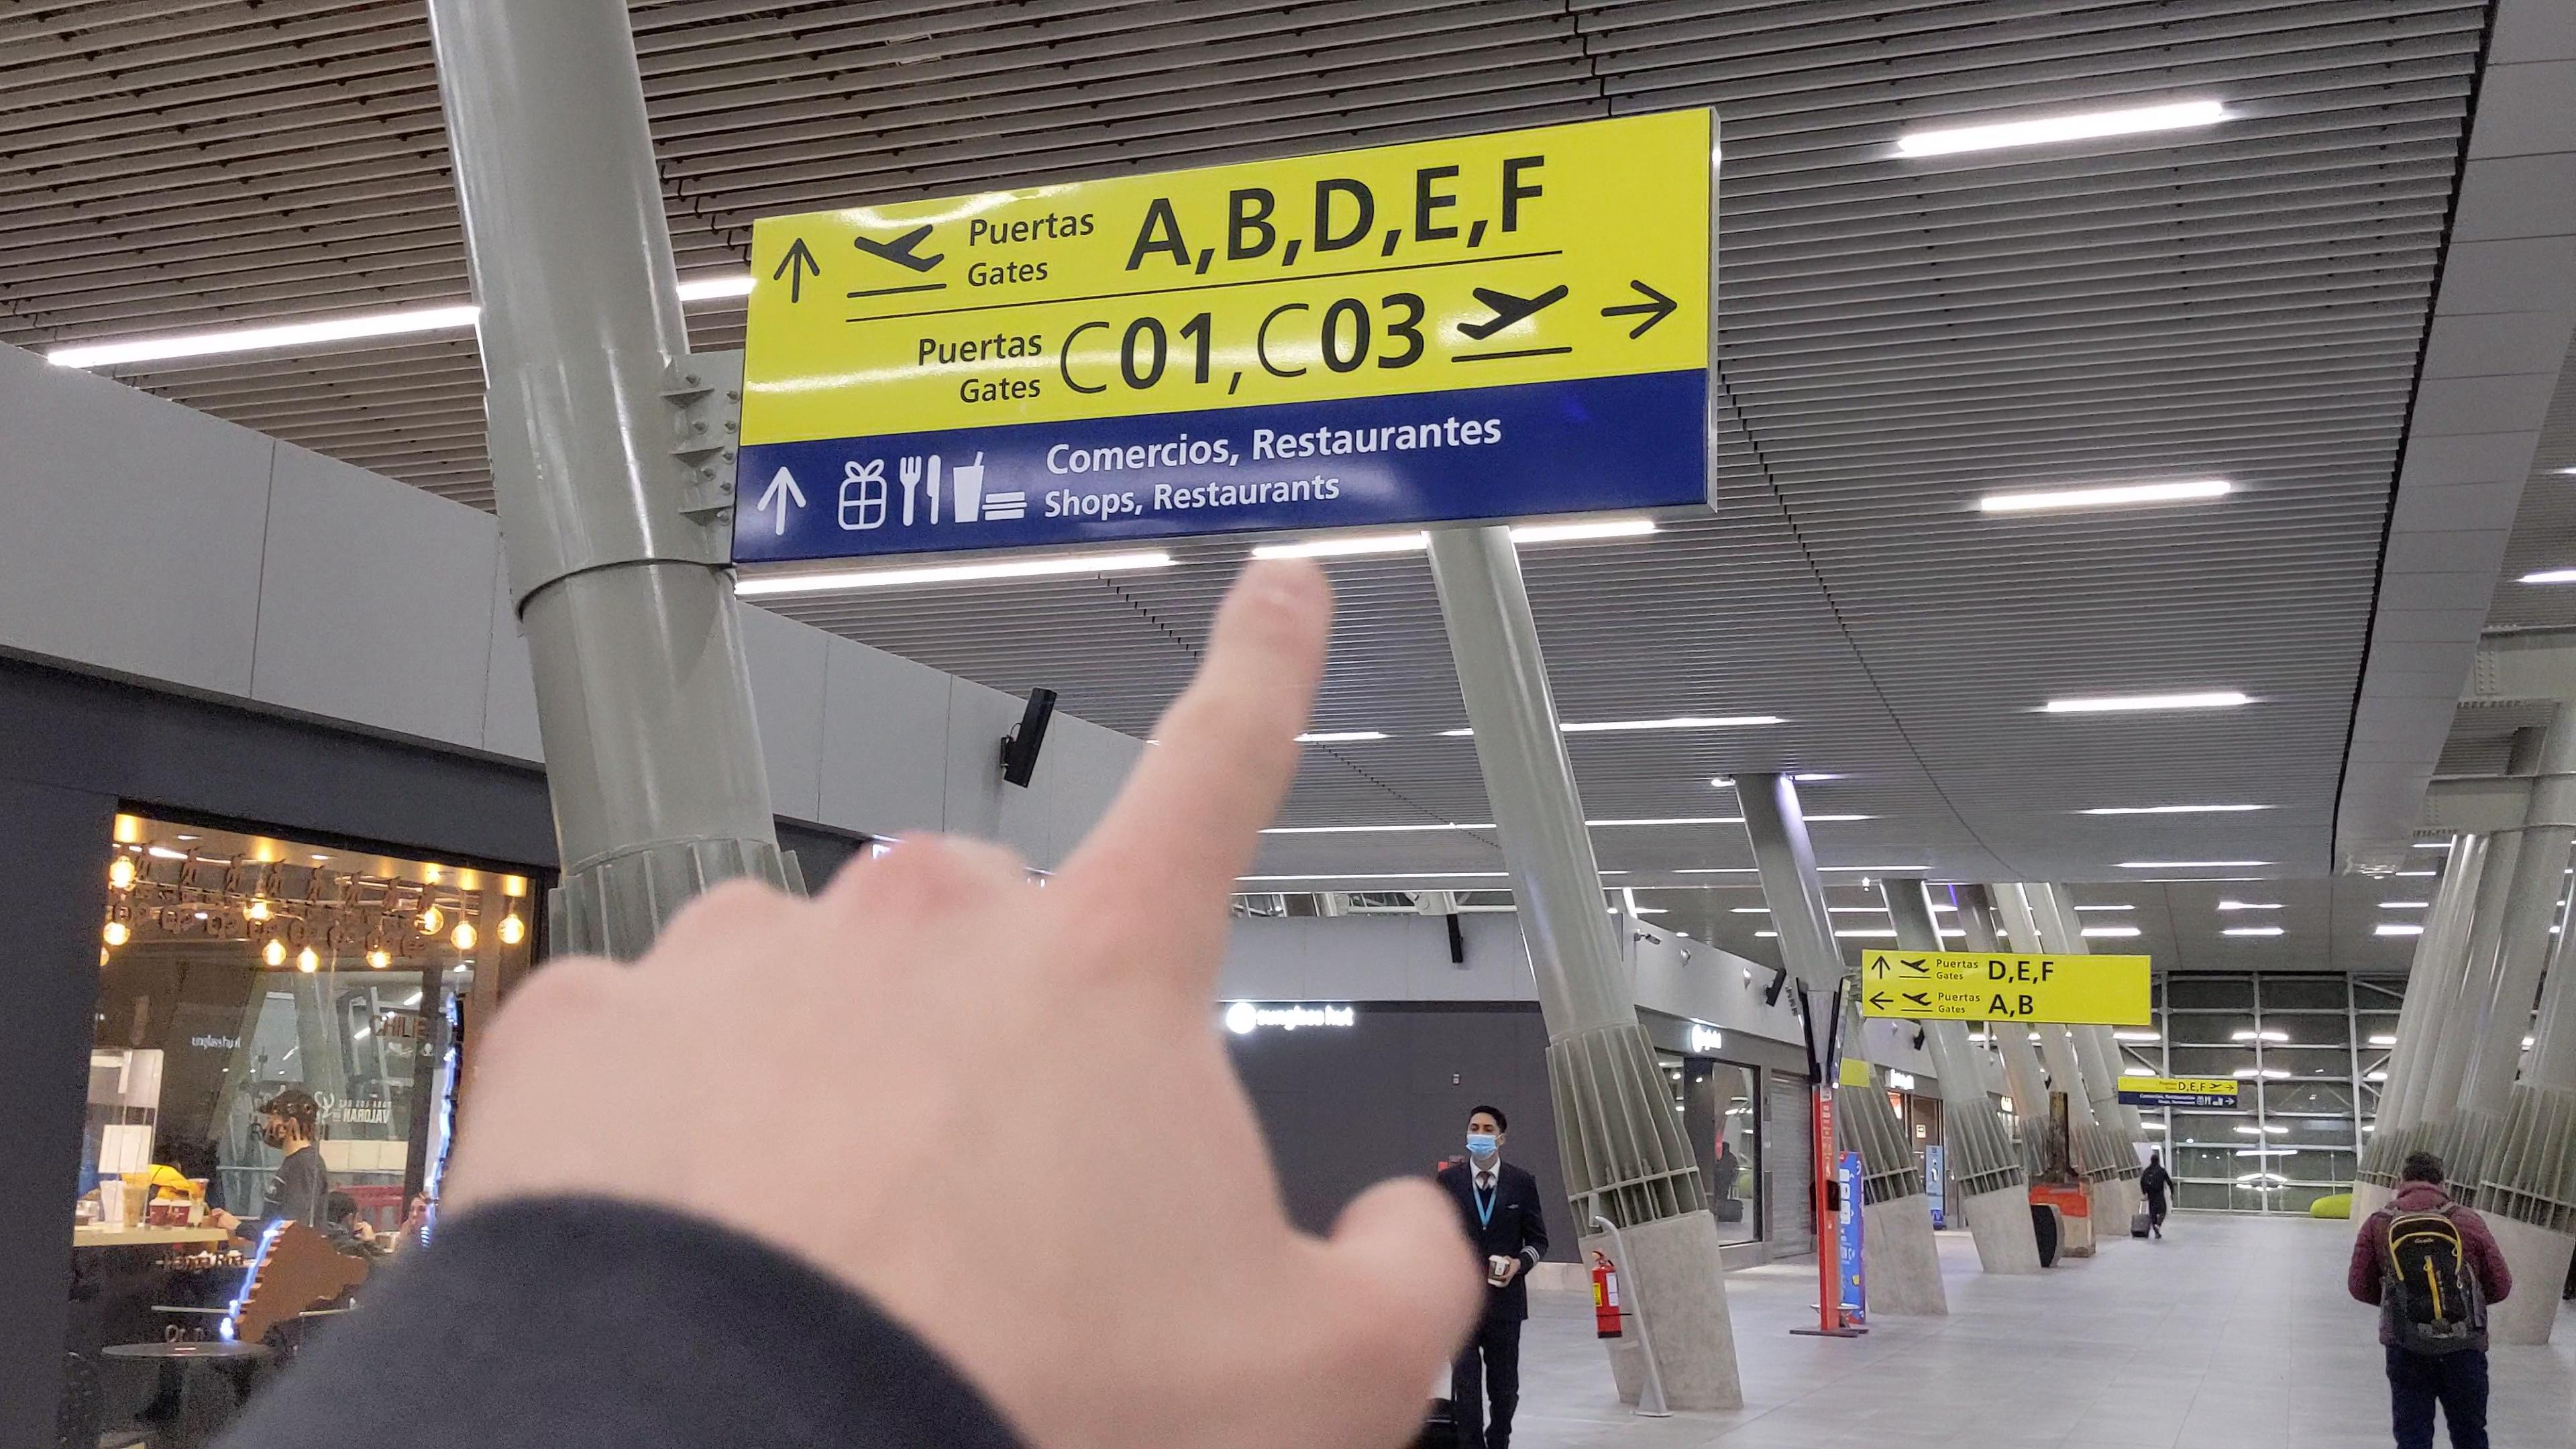airplane symbol: (1454, 280, 1573, 343), (851, 223, 948, 278), (1898, 957, 1932, 975), (1900, 989, 1934, 1007), (2208, 1081, 2222, 1090)
fire-extinguisher: (1585, 1246, 1629, 1343)
restaurants: (895, 451, 947, 529)
thin left arrow: (1868, 989, 1895, 1012)
thin right arrow: (1598, 278, 1679, 340)
thin up arrow: (755, 464, 807, 540), (771, 235, 823, 306), (1870, 954, 1891, 980)
